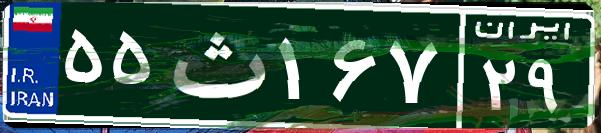1: (273, 28, 330, 110)
2: (475, 38, 525, 113)
5: (57, 26, 110, 107), (110, 28, 158, 105)
6: (330, 28, 385, 110)
7: (385, 28, 445, 110)
9: (525, 38, 570, 115)
ث: (158, 15, 273, 115)
